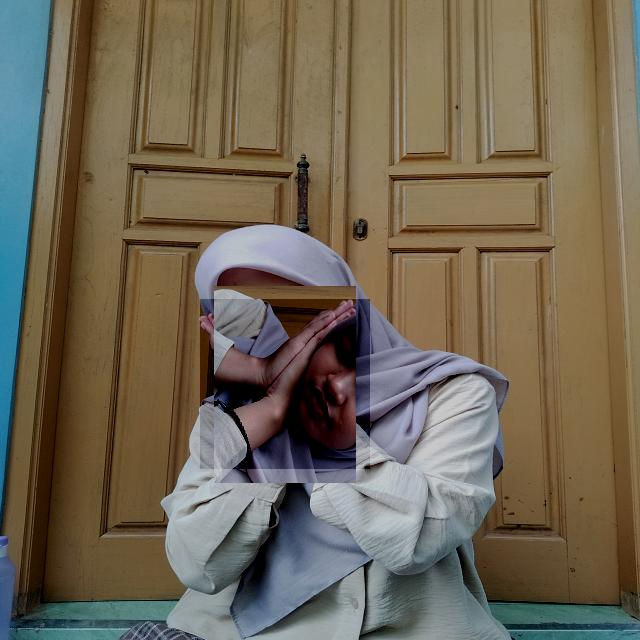tidur: (200, 299, 370, 469)
